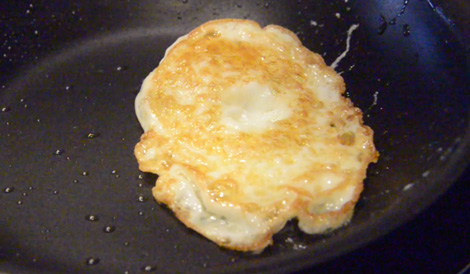fried_eggs: (164, 34, 356, 224)
